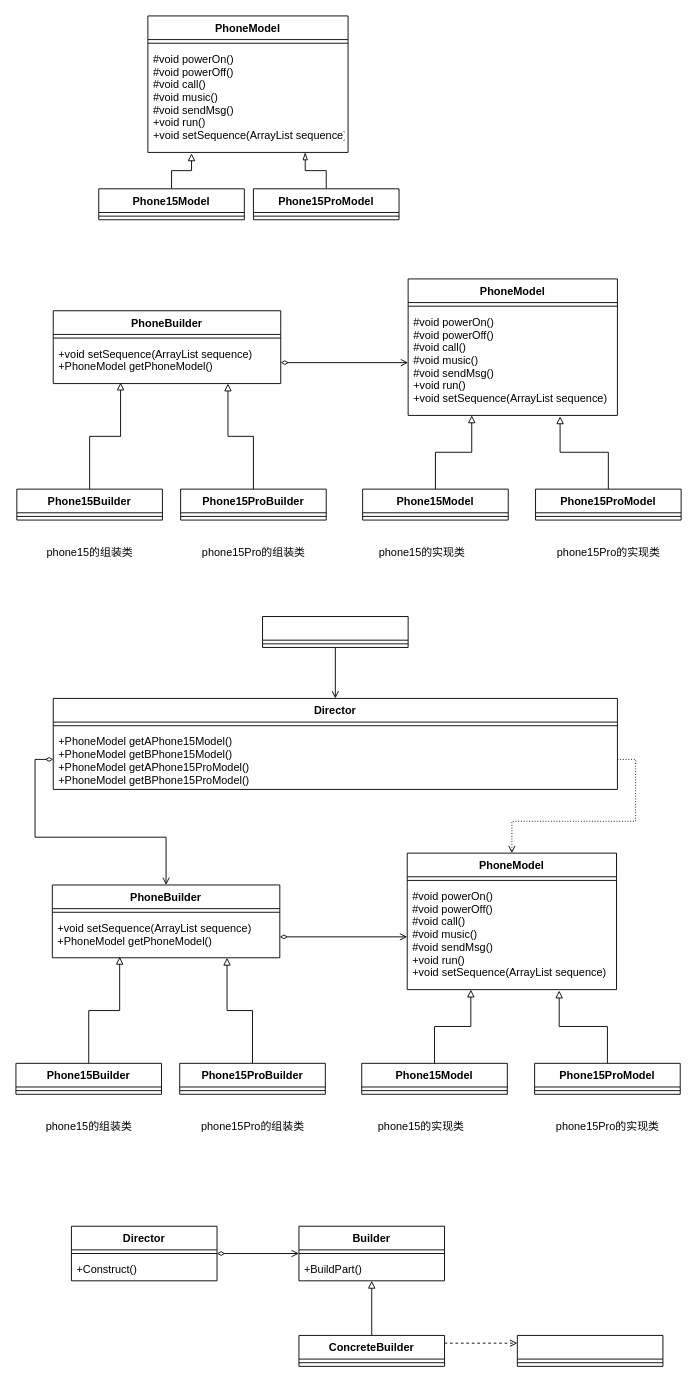
Image size: 697x1382. Some labels were removed from this diagram. Here are the shapes that lost their labels. From the top down, the centre of each, then its label:
At pixel 335 631: "Client".
At pixel 589 1350: "Product".
